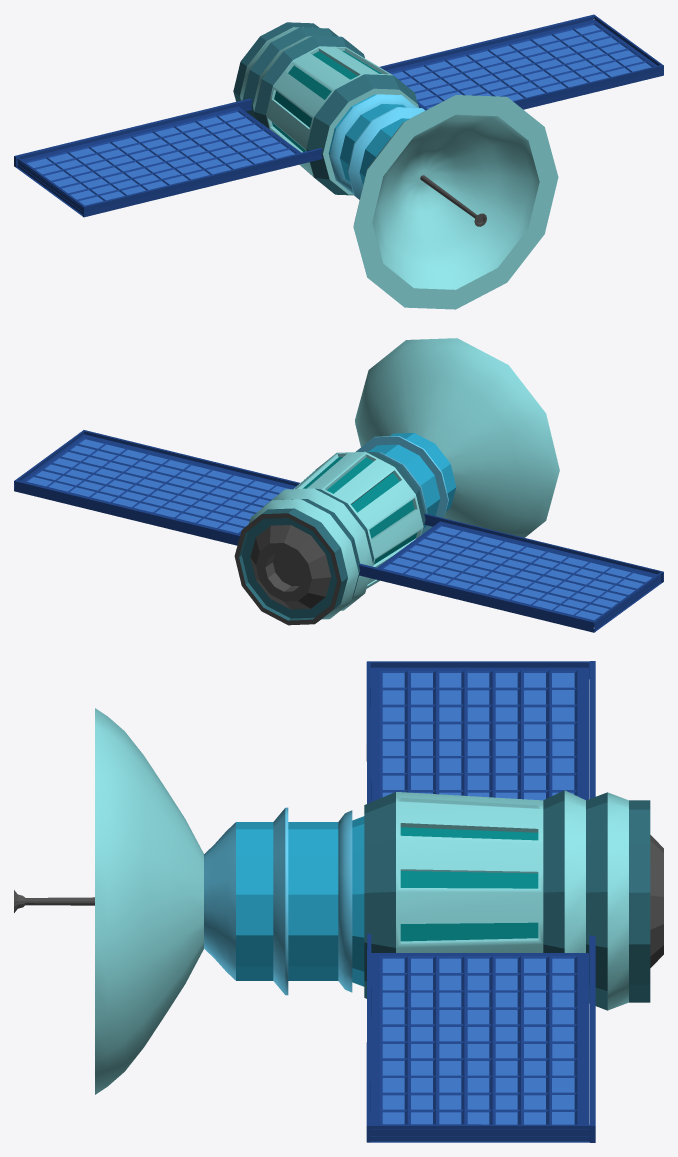
Rendered from low_poly_satellite_oriented.glb.
The picture shows the model from 3 angles, top to bottom: view 1: azimuth 30°, elevation 25°; view 2: azimuth 150°, elevation 25°; view 3: azimuth 270°, elevation 25°; orthographic projection. The views are drawn at different scales.
Visible parts, largest first — view 1: Cylinder_1, Cylinder.004_5, Cylinder.003_4, Cylinder.002_3, Cylinder.001_2, Cylinder.007_8, Cylinder.006_7, Cylinder.005_6, Cylinder.008_9, Cylinder.009_10; view 2: Cylinder_1, Cylinder.004_5, Cylinder.002_3, Cylinder.003_4, Cylinder.001_2, Cylinder.009_10, Cylinder.007_8, Cylinder.005_6, Cylinder.008_9, Cylinder.006_7; view 3: Cylinder_1, Cylinder.001_2, Cylinder.002_3, Cylinder.003_4, Cylinder.007_8, Cylinder.004_5, Cylinder.005_6, Cylinder.006_7, Cylinder.008_9, Cylinder.009_10.
Part boxes in pixels (x1,y1,x2,y2): Cylinder_1: (240,27,558,309); Cylinder.004_5: (14,98,322,217); Cylinder.003_4: (27,112,294,205); Cylinder.002_3: (380,14,663,110); Cylinder.001_2: (392,25,651,108); Cylinder.007_8: (233,22,417,195); Cylinder.006_7: (329,94,425,199); Cylinder.005_6: (328,94,409,185); Cylinder.008_9: (272,51,381,151); Cylinder.009_10: (420,175,486,226); Cylinder_1: (249,338,559,619); Cylinder.004_5: (359,513,663,632); Cylinder.002_3: (14,430,299,545); Cylinder.003_4: (384,526,651,620); Cylinder.001_2: (27,439,289,533); Cylinder.009_10: (234,513,341,625); Cylinder.007_8: (239,451,425,621); Cylinder.005_6: (368,433,456,528); Cylinder.008_9: (303,457,416,564); Cylinder.006_7: (356,436,448,534); Cylinder_1: (95,708,628,1094); Cylinder.001_2: (382,958,574,1124); Cylinder.002_3: (366,933,595,1142); Cylinder.003_4: (382,673,574,800); Cylinder.007_8: (364,790,650,1010); Cylinder.004_5: (366,661,595,803); Cylinder.005_6: (236,816,364,986); Cylinder.006_7: (204,807,352,995); Cylinder.008_9: (400,827,538,941); Cylinder.009_10: (14,835,663,967).
Size of the model in its own units: 19.74 by 6.98 by 11.66.
